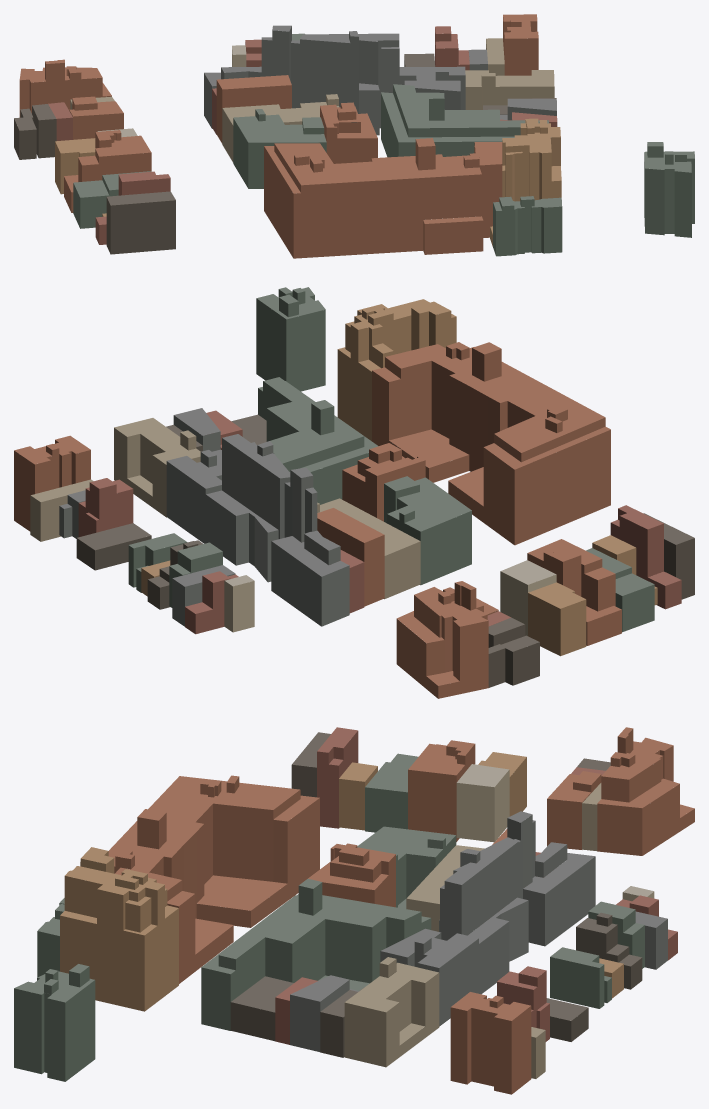
The model's file is tile-2_3.glb.
The picture shows the model from 3 angles, top to bottom: view 1: azimuth 30°, elevation 25°; view 2: azimuth 150°, elevation 25°; view 3: azimuth 270°, elevation 25°; orthographic projection. The views are drawn at different scales.
Parts seen in each view (by area): view 1: wall, roof; view 2: wall, roof; view 3: wall, roof.
Boxes of the visible parts, left/top/right/bottom form: wall: left=14, top=17, right=694, bottom=258; roof: left=14, top=14, right=694, bottom=234; wall: left=14, top=289, right=694, bottom=698; roof: left=14, top=287, right=694, bottom=685; wall: left=14, top=729, right=694, bottom=1094; roof: left=14, top=727, right=694, bottom=1045.
Bounding box in the file's own units: 214 × 43.28 × 205.
